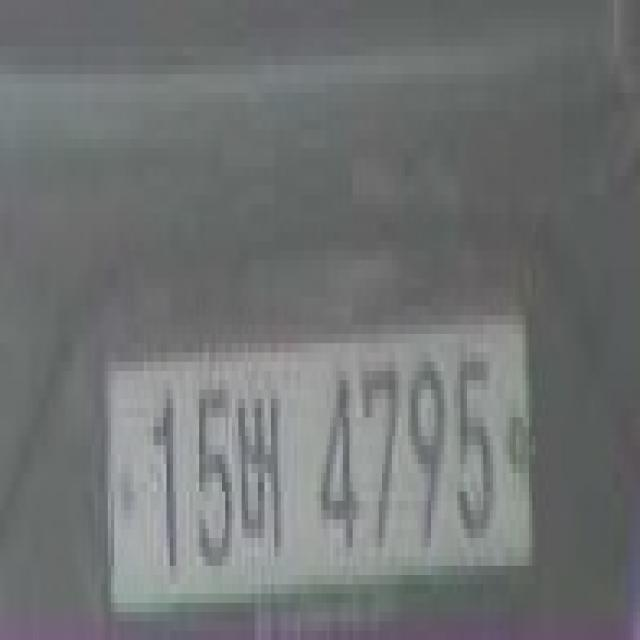1: (144, 380, 186, 594)
4: (317, 353, 362, 575)
5: (454, 334, 506, 566), (189, 371, 235, 594)
7: (359, 352, 405, 566)
9: (405, 343, 454, 566)
beo: (235, 362, 291, 603)
license_plate: (88, 287, 542, 640)
